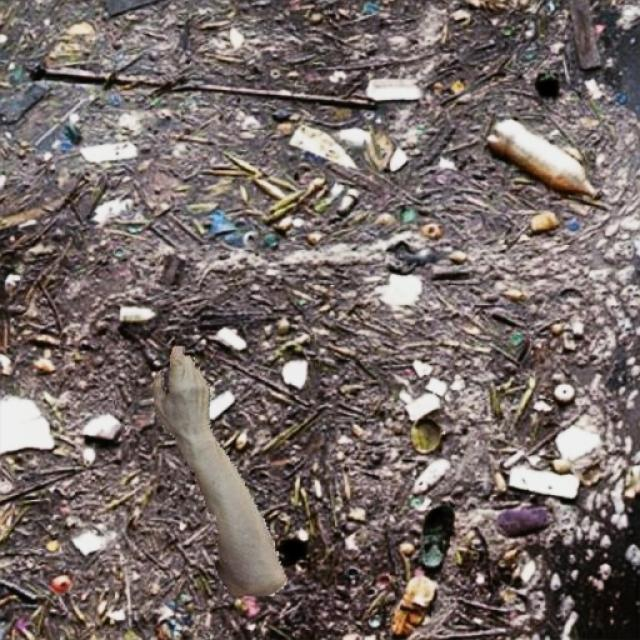Person in Rubble: (152, 346, 288, 595)
